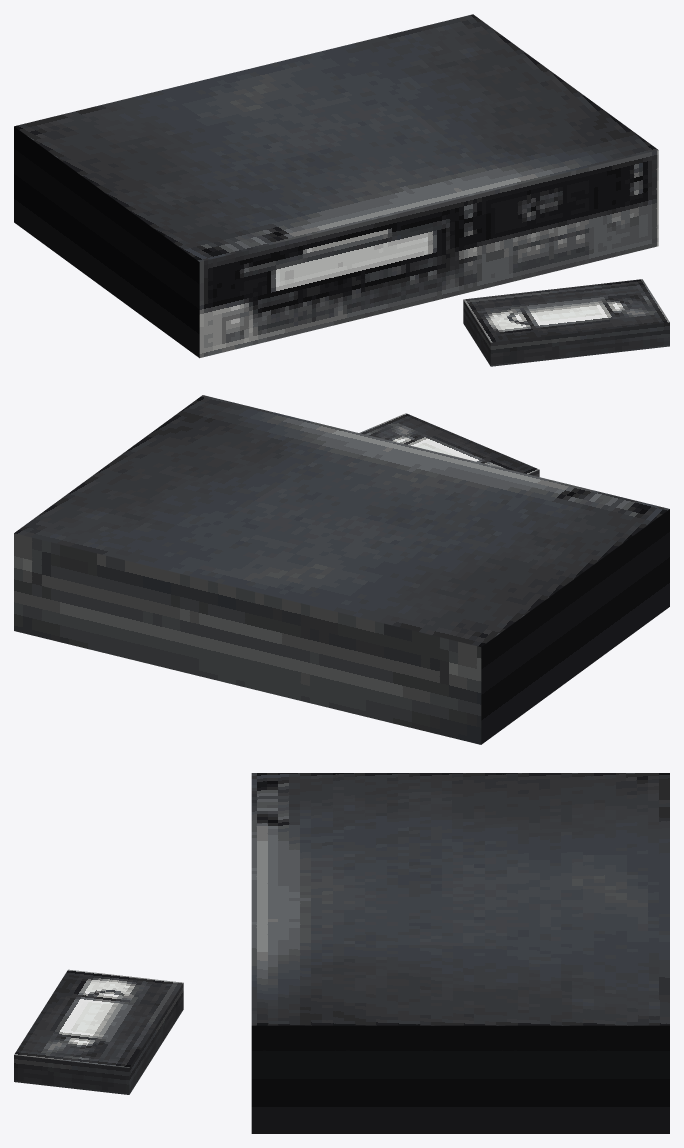
Rendered from vhs_player.glb.
The picture shows the model from 3 angles, top to bottom: view 1: azimuth 30°, elevation 25°; view 2: azimuth 150°, elevation 25°; view 3: azimuth 270°, elevation 25°; orthographic projection. The views are drawn at different scales.
Parts seen in each view (by area): view 1: VHSPlayer; view 2: VHSPlayer; view 3: VHSPlayer.
Boxes of the visible parts, <box> form: VHSPlayer: <box>14,14,669,366</box>; VHSPlayer: <box>14,395,669,744</box>; VHSPlayer: <box>14,773,669,1133</box>.
Bounding box in the file's own units: 0.66 × 0.132 × 0.7246.
Materials: 1 (1 with a texture image).
